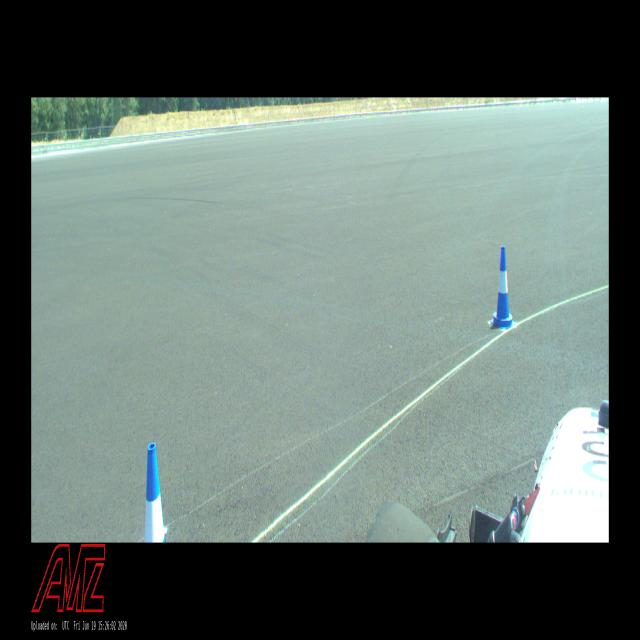blue_cone: (490, 246, 516, 330), (144, 443, 165, 543)
